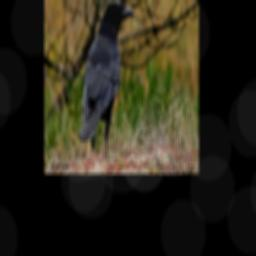Crow: (78, 0, 134, 161)
